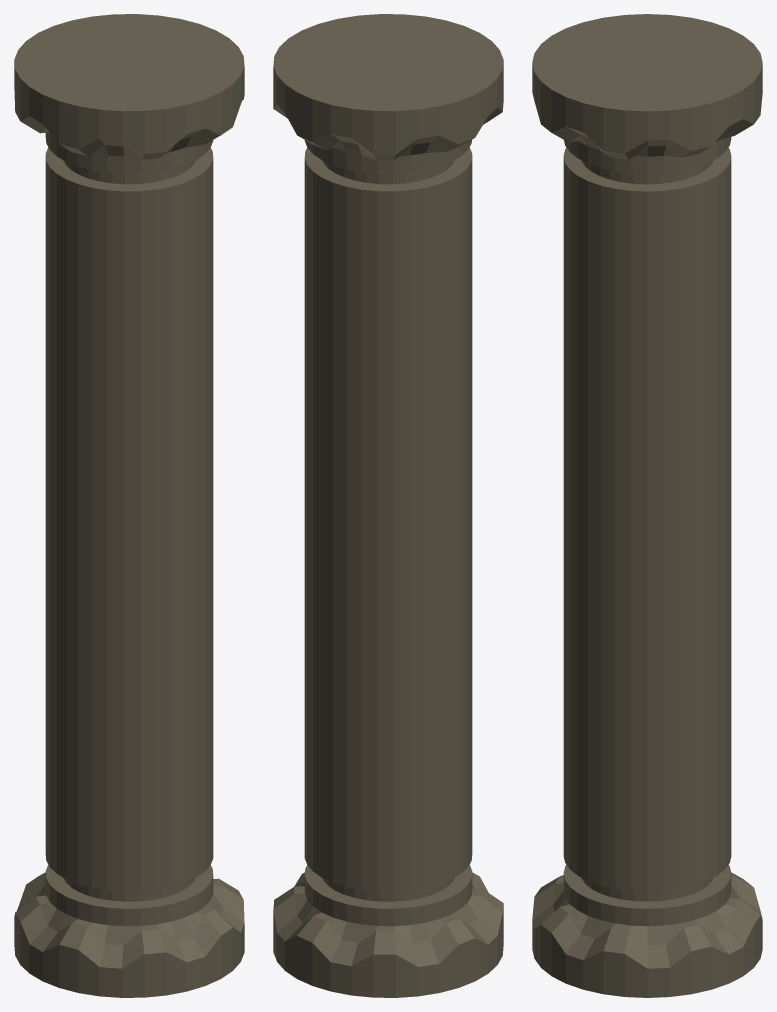
The model's file is Coloumn4.fbx.
3 views of the same model, side by side, from view 1: azimuth 30°, elevation 25°; view 2: azimuth 150°, elevation 25°; view 3: azimuth 270°, elevation 25° (orthographic).
Parts seen in each view (by area): view 1: Coioumn4; view 2: Coioumn4; view 3: Coioumn4.
Boxes of the visible parts, x1,y1,x2,y2 form: Coioumn4: (14,14,244,997); Coioumn4: (273,14,503,997); Coioumn4: (532,14,762,997).
Size of the model in its own units: 94.26 by 400 by 94.26.
